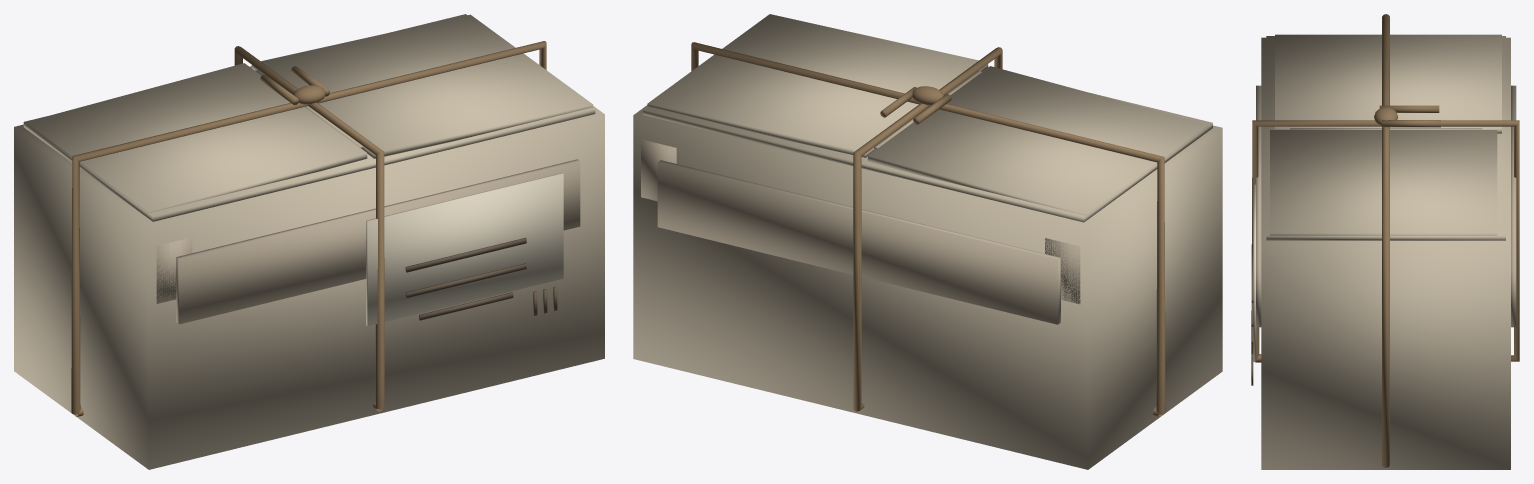
File: enfield_ammo_packet.glb
3 renders of one model, left to right at view 1: azimuth 30°, elevation 25°; view 2: azimuth 150°, elevation 25°; view 3: azimuth 270°, elevation 25°, orthographic. The views are drawn at different scales.
Visible parts, largest first — view 1: ENFIELD_PACKET_WrappedBody, ENFIELD_PACKET_TopFold_L, ENFIELD_PACKET_TopFold_R, ENFIELD_PACKET_Label, ENFIELD_PACKET_FrontFold, ENFIELD_PACKET_Twine_X, ENFIELD_PACKET_TopPaper, ENFIELD_PACKET_Twine_Y, ENFIELD_PACKET_CornerFold_01, ENFIELD_PACKET_LabelPrint_02, ENFIELD_PACKET_LabelPrint_01, ENFIELD_PACKET_LabelPrint_03; view 2: ENFIELD_PACKET_WrappedBody, ENFIELD_PACKET_RearFold, ENFIELD_PACKET_TopFold_L, ENFIELD_PACKET_TopFold_R, ENFIELD_PACKET_Twine_X, ENFIELD_PACKET_TopPaper, ENFIELD_PACKET_Twine_Y, ENFIELD_PACKET_CornerFold_03, ENFIELD_PACKET_CornerFold_04; view 3: ENFIELD_PACKET_WrappedBody, ENFIELD_PACKET_TopFold_R, ENFIELD_PACKET_TopFold_L, ENFIELD_PACKET_TopPaper, ENFIELD_PACKET_Twine_X, ENFIELD_PACKET_Twine_Y, ENFIELD_PACKET_FrontFold, ENFIELD_PACKET_RearFold, ENFIELD_PACKET_Label, ENFIELD_PACKET_KnotTail_01, ENFIELD_PACKET_KnotTail_02, ENFIELD_PACKET_TopCrease (+1 smaller).
Boxes of the visible parts, bbox=[...] form: ENFIELD_PACKET_WrappedBody: bbox=[14, 106, 604, 469]; ENFIELD_PACKET_TopFold_L: bbox=[25, 63, 367, 213]; ENFIELD_PACKET_TopFold_R: bbox=[251, 14, 593, 158]; ENFIELD_PACKET_Label: bbox=[366, 173, 563, 326]; ENFIELD_PACKET_FrontFold: bbox=[176, 159, 580, 324]; ENFIELD_PACKET_Twine_X: bbox=[71, 41, 546, 416]; ENFIELD_PACKET_TopPaper: bbox=[23, 14, 595, 221]; ENFIELD_PACKET_Twine_Y: bbox=[234, 46, 384, 411]; ENFIELD_PACKET_CornerFold_01: bbox=[156, 237, 192, 303]; ENFIELD_PACKET_LabelPrint_02: bbox=[405, 263, 526, 298]; ENFIELD_PACKET_LabelPrint_01: bbox=[405, 237, 526, 272]; ENFIELD_PACKET_LabelPrint_03: bbox=[419, 292, 513, 320]; ENFIELD_PACKET_WrappedBody: bbox=[633, 105, 1222, 469]; ENFIELD_PACKET_RearFold: bbox=[657, 160, 1060, 324]; ENFIELD_PACKET_TopFold_L: bbox=[867, 66, 1208, 215]; ENFIELD_PACKET_TopFold_R: bbox=[647, 14, 988, 157]; ENFIELD_PACKET_Twine_X: bbox=[691, 42, 1165, 417]; ENFIELD_PACKET_TopPaper: bbox=[643, 93, 1212, 222]; ENFIELD_PACKET_Twine_Y: bbox=[853, 47, 1002, 411]; ENFIELD_PACKET_CornerFold_03: bbox=[1045, 238, 1080, 304]; ENFIELD_PACKET_CornerFold_04: bbox=[641, 139, 676, 201]; ENFIELD_PACKET_WrappedBody: bbox=[1261, 37, 1510, 469]; ENFIELD_PACKET_TopFold_R: bbox=[1270, 130, 1497, 235]; ENFIELD_PACKET_TopFold_L: bbox=[1275, 34, 1501, 133]; ENFIELD_PACKET_TopPaper: bbox=[1266, 36, 1505, 240]; ENFIELD_PACKET_Twine_X: bbox=[1382, 14, 1389, 467]; ENFIELD_PACKET_Twine_Y: bbox=[1251, 120, 1519, 362]; ENFIELD_PACKET_FrontFold: bbox=[1256, 85, 1261, 327]; ENFIELD_PACKET_RearFold: bbox=[1511, 85, 1516, 327]; ENFIELD_PACKET_Label: bbox=[1253, 184, 1256, 361]; ENFIELD_PACKET_KnotTail_01: bbox=[1381, 120, 1440, 127]; ENFIELD_PACKET_KnotTail_02: bbox=[1379, 105, 1439, 112]; ENFIELD_PACKET_TopCrease: bbox=[1290, 128, 1482, 129].
Bounding box in the file's own units: 0.2131 × 0.1193 × 0.1129.
